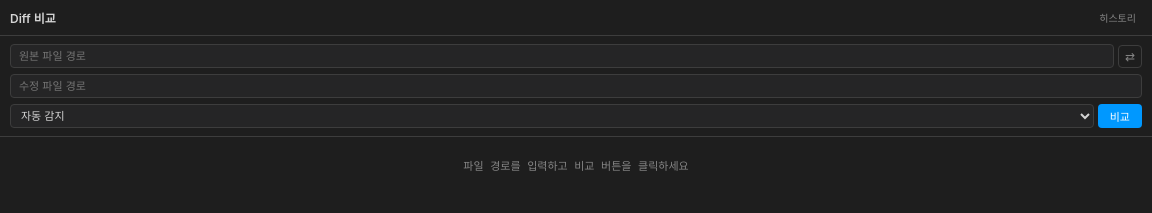
DiffPanel › 비교 완료 후 히스토리 버튼에 개수가 표시된다
In the field with placeholder "원본 파일 경로": (562, 56) [10,44,1114,68], type "/a.ts"
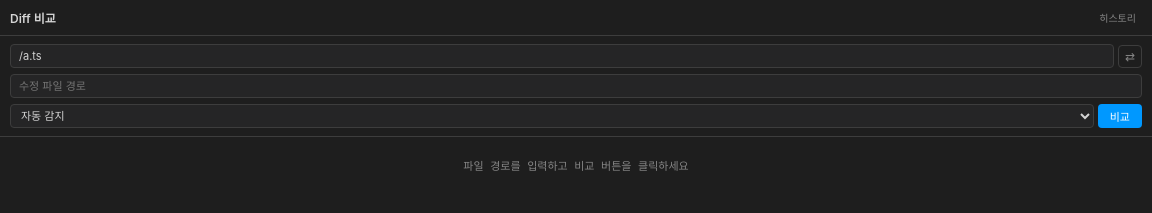
In the field with placeholder "수정 파일 경로": (576, 86) [10,74,1142,98], type "/b.ts"
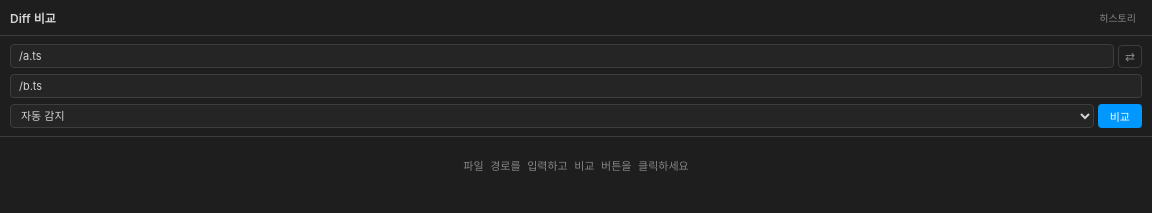
Click the button "비교": (1120, 116) [1098,104,1142,128]
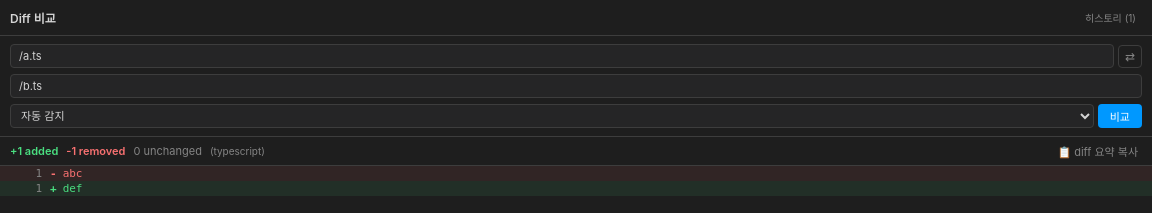
Check: the button "히스토리 (1)" is shown, box [1079,8,1142,27]
